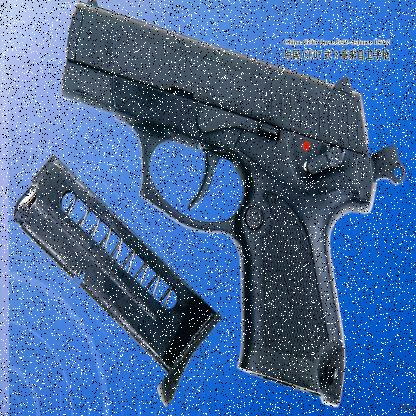pistol: (61, 1, 405, 407)
